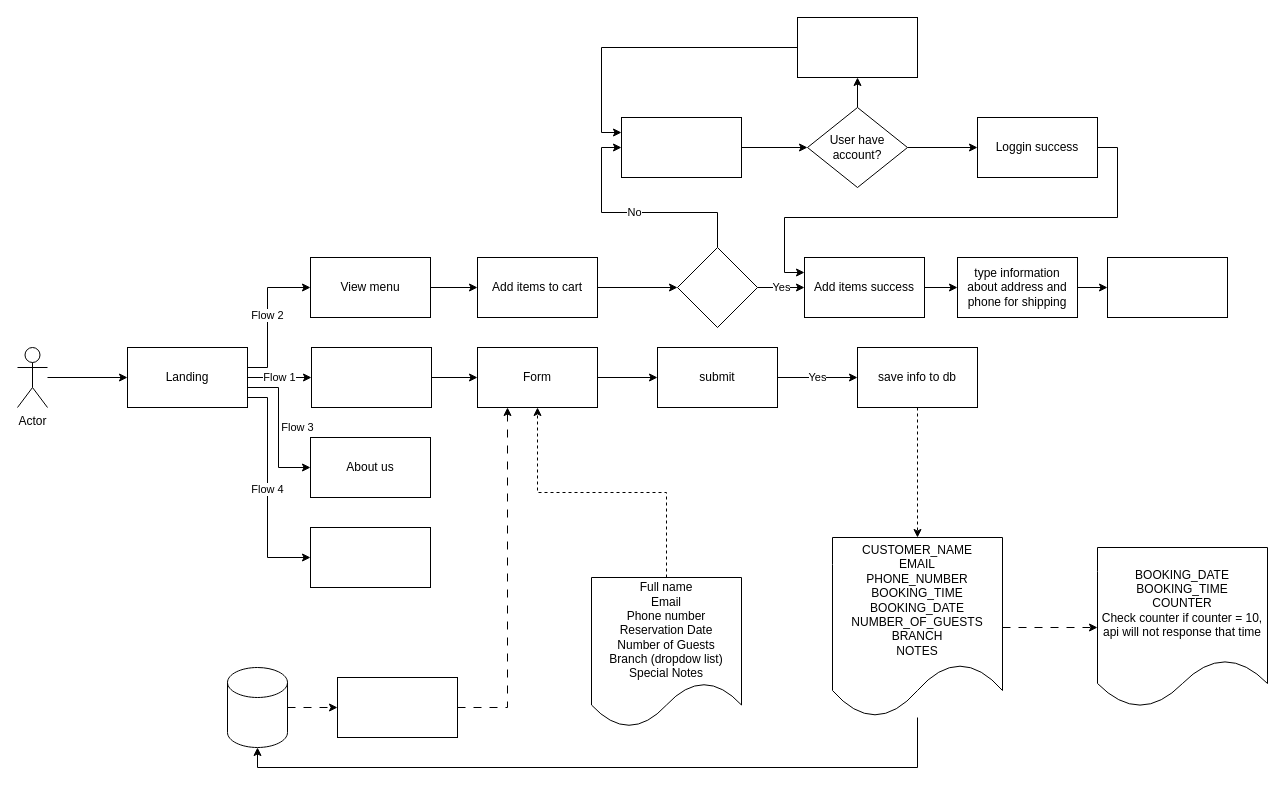
Some shapes in this 1285 by 793 pixel diagram are drawn without their labels. Here are the shapes that lost their labels. From the top down, the centre of each, then its label:
At (x=857, y=47): "Registration".
At (x=681, y=147): "Sign in".
At (x=717, y=287): "Sign in?".
At (x=1167, y=287): "Order".
At (x=371, y=377): "Book table / Reservation".
At (x=370, y=557): "Contact".
At (x=257, y=707): "db".
At (x=397, y=707): "Time available to day (no booking)".
